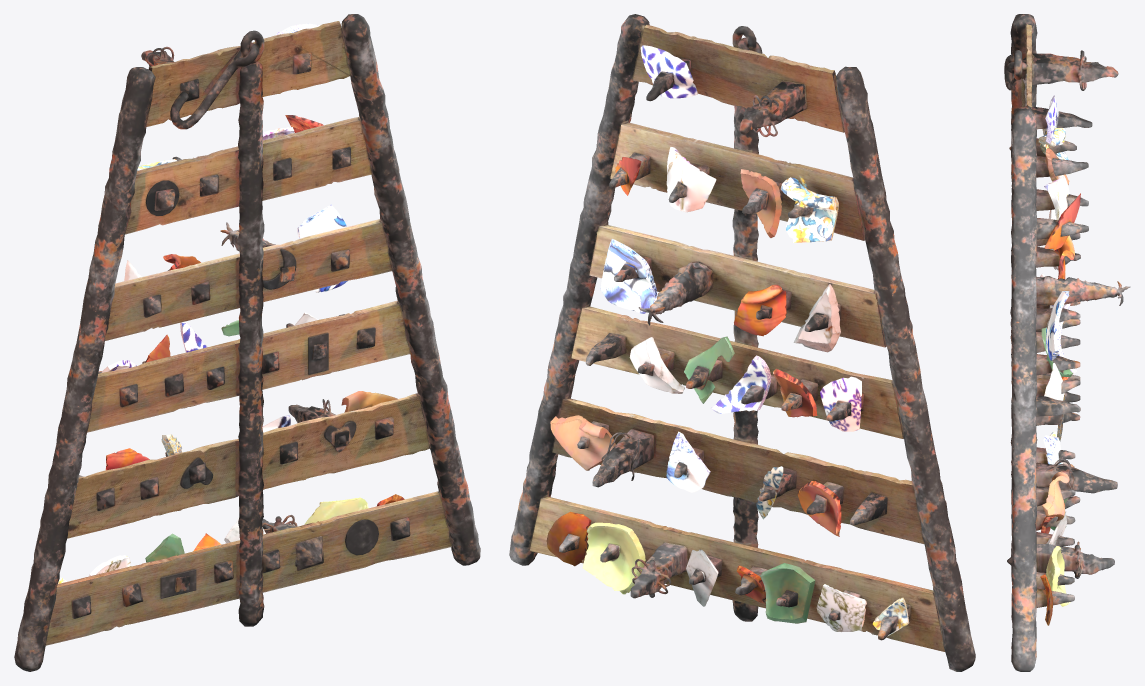
File: brana.gltf
3 renders of one model, left to right at view 1: azimuth 30°, elevation 25°; view 2: azimuth 150°, elevation 25°; view 3: azimuth 270°, elevation 25°, orthographic. The views are drawn at different scales.
Visible parts, largest first — view 1: BranaLP; view 2: BranaLP; view 3: BranaLP.
Part boxes in pixels (x1=…): BranaLP: x1=14, y1=14, x2=480, y2=671; BranaLP: x1=509, y1=14, x2=975, y2=671; BranaLP: x1=1004, y1=14, x2=1130, y2=671.
Bounding box in the file's own units: 0.9173 × 1.13 × 0.2435.
1 material, 1 textured.
